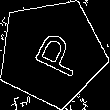P_NW: (21, 25, 83, 80)
